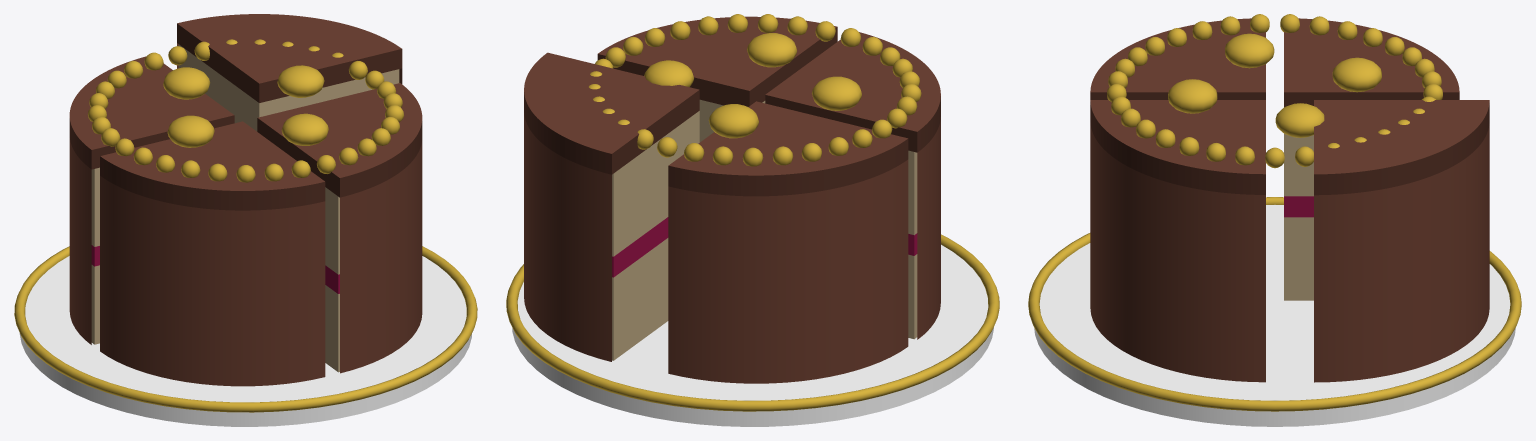
The model's file is torta-15cm-10alto-1p-4porc-chocolate.glb.
The picture shows the model from 3 angles, left to right: view 1: azimuth 30°, elevation 25°; view 2: azimuth 150°, elevation 25°; view 3: azimuth 270°, elevation 25°; orthographic projection. The views are drawn at different scales.
Bounding box in the file's own units: 0.215 × 0.1216 × 0.215.
